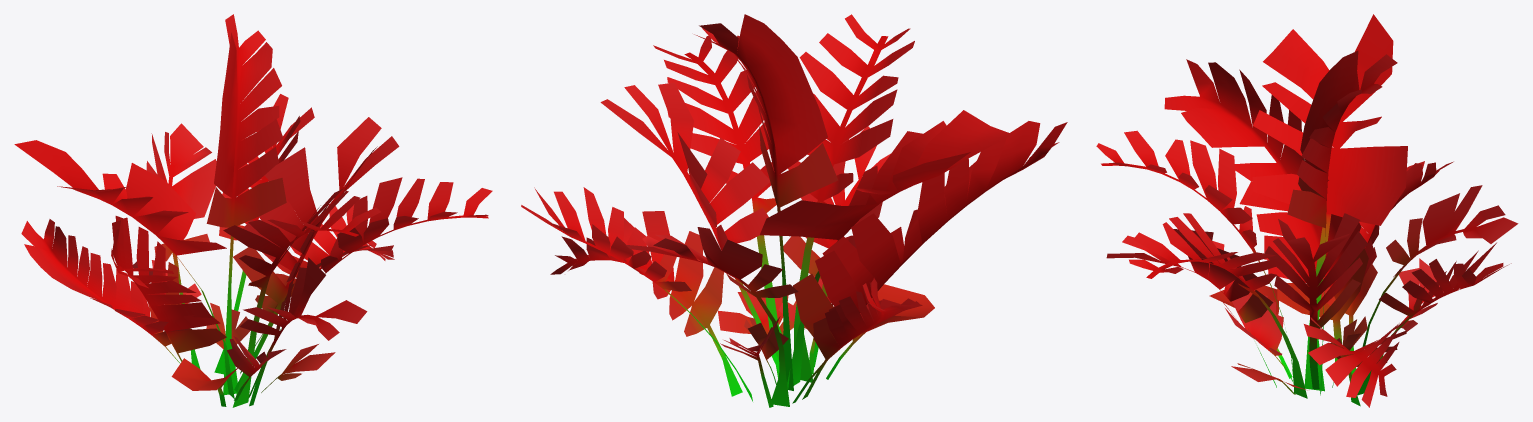
The model's file is Var3_LOD1.fbx.
3 views of the same model, side by side, from view 1: azimuth 30°, elevation 25°; view 2: azimuth 150°, elevation 25°; view 3: azimuth 270°, elevation 25° (orthographic). The views are drawn at different scales.
Visible parts, largest first — view 1: _af5c_Var3_LOD1; view 2: _af5c_Var3_LOD1; view 3: _af5c_Var3_LOD1.
Boxes of the visible parts, <box> form: _af5c_Var3_LOD1: <box>14,14,492,407</box>; _af5c_Var3_LOD1: <box>521,14,1067,407</box>; _af5c_Var3_LOD1: <box>1096,14,1518,407</box>.
Size of the model in its own units: 124 by 107 by 116.
